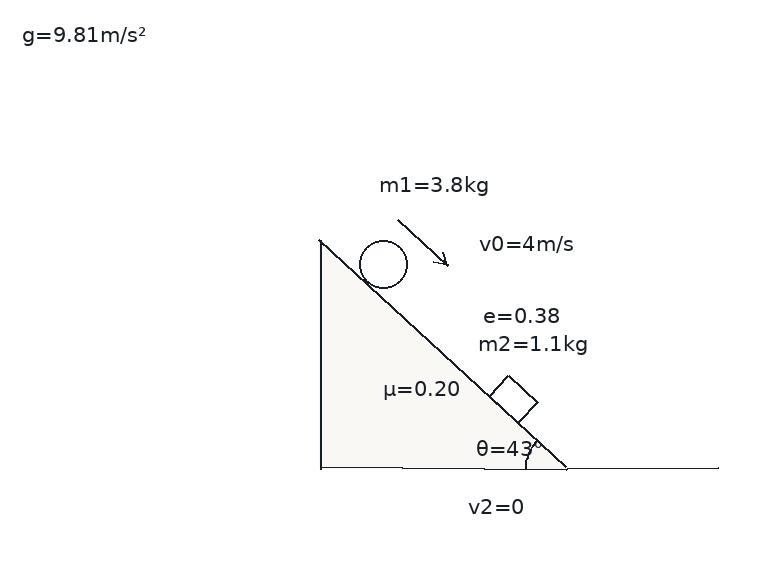ball: (357, 238, 409, 290)
block: (486, 373, 539, 425)
ramp: (318, 236, 568, 470)
